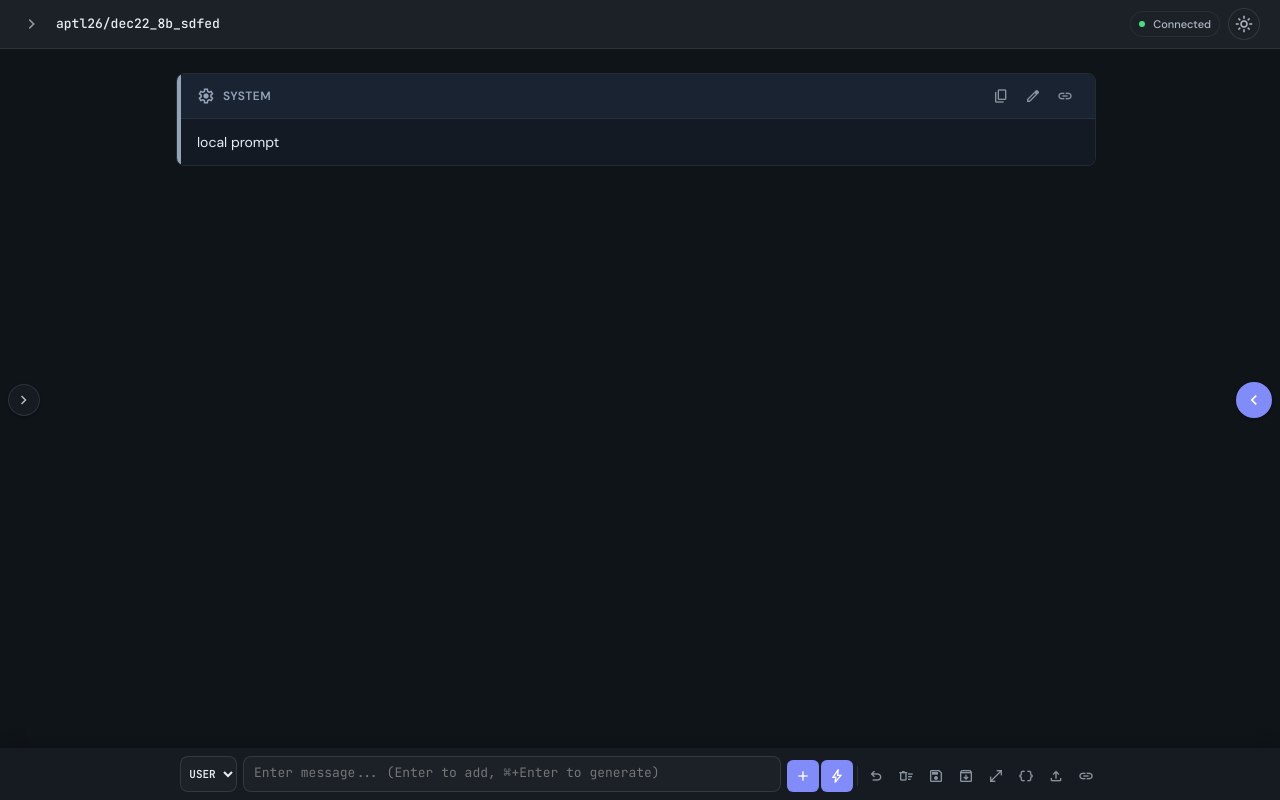
Test: AppShell chat flows › auto-executes local bash blocks and appends tool output
Step 1. Type "Run the command" into the text box with placeholder "Enter message... (Enter to add, ⌘+Enter to generate)" → (512, 774), box 243,756 -> 781,792
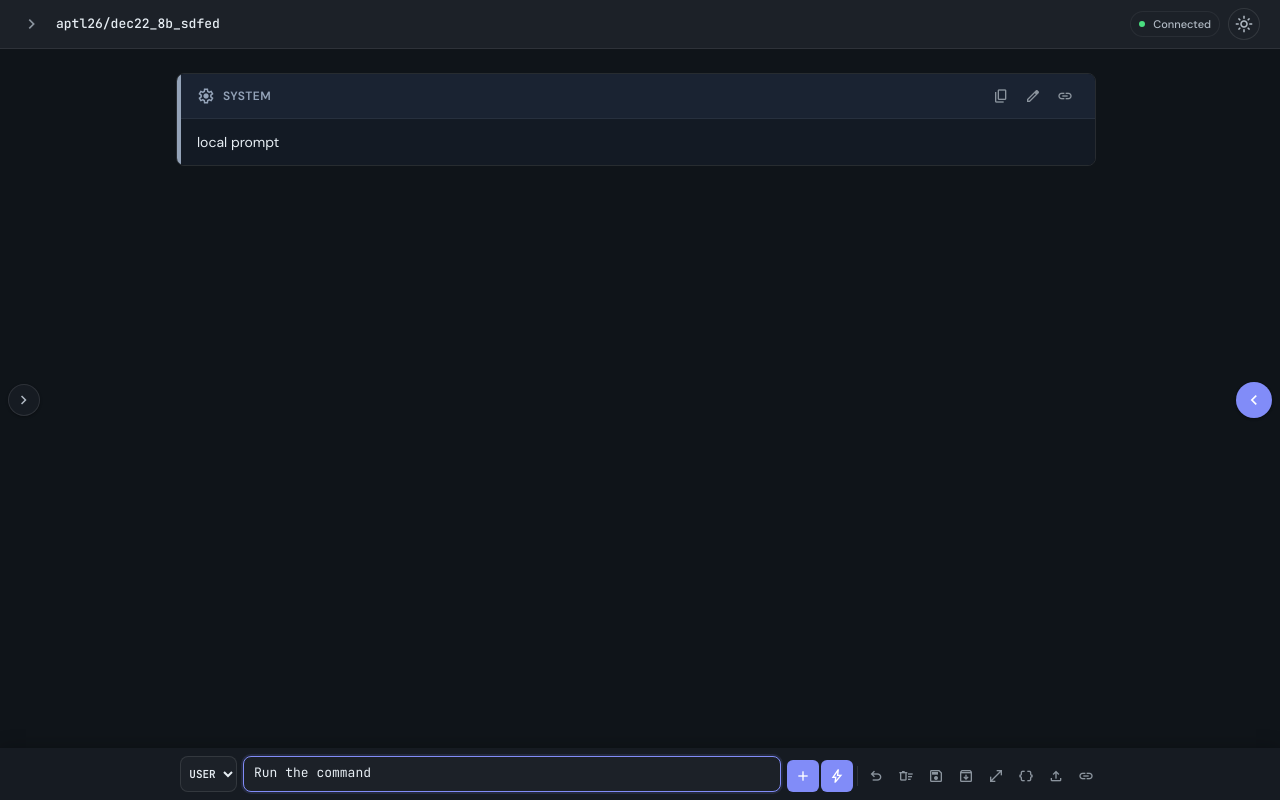
Step 2. Click the button named "Add" → (803, 776), box 787,760 -> 819,792
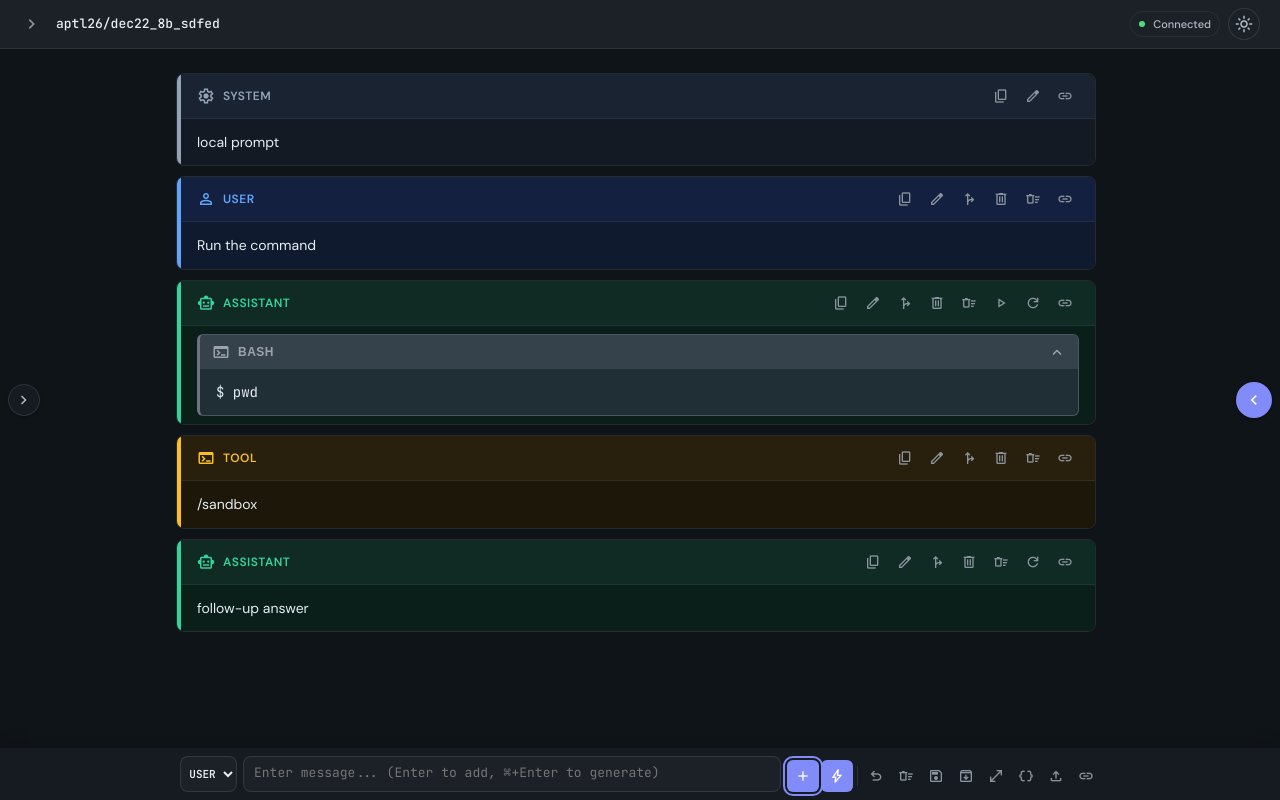
Expected: the text "follow-up answer" is shown, 197,599 -> 309,617
